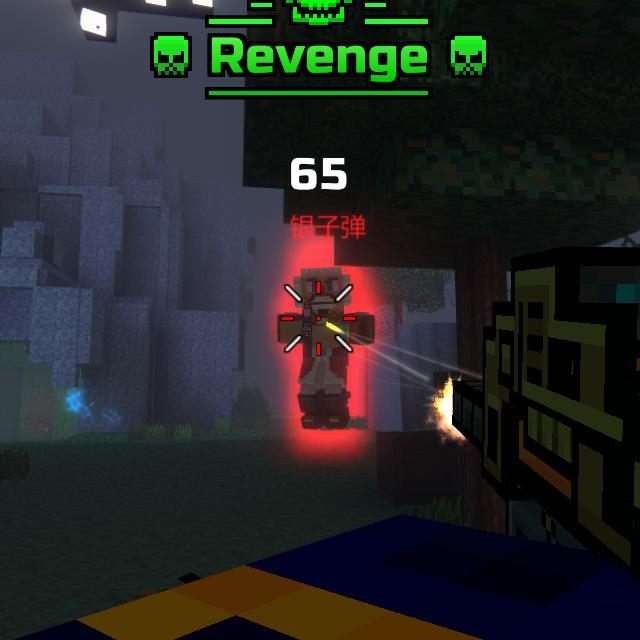Enemy: (279, 267, 377, 428)
